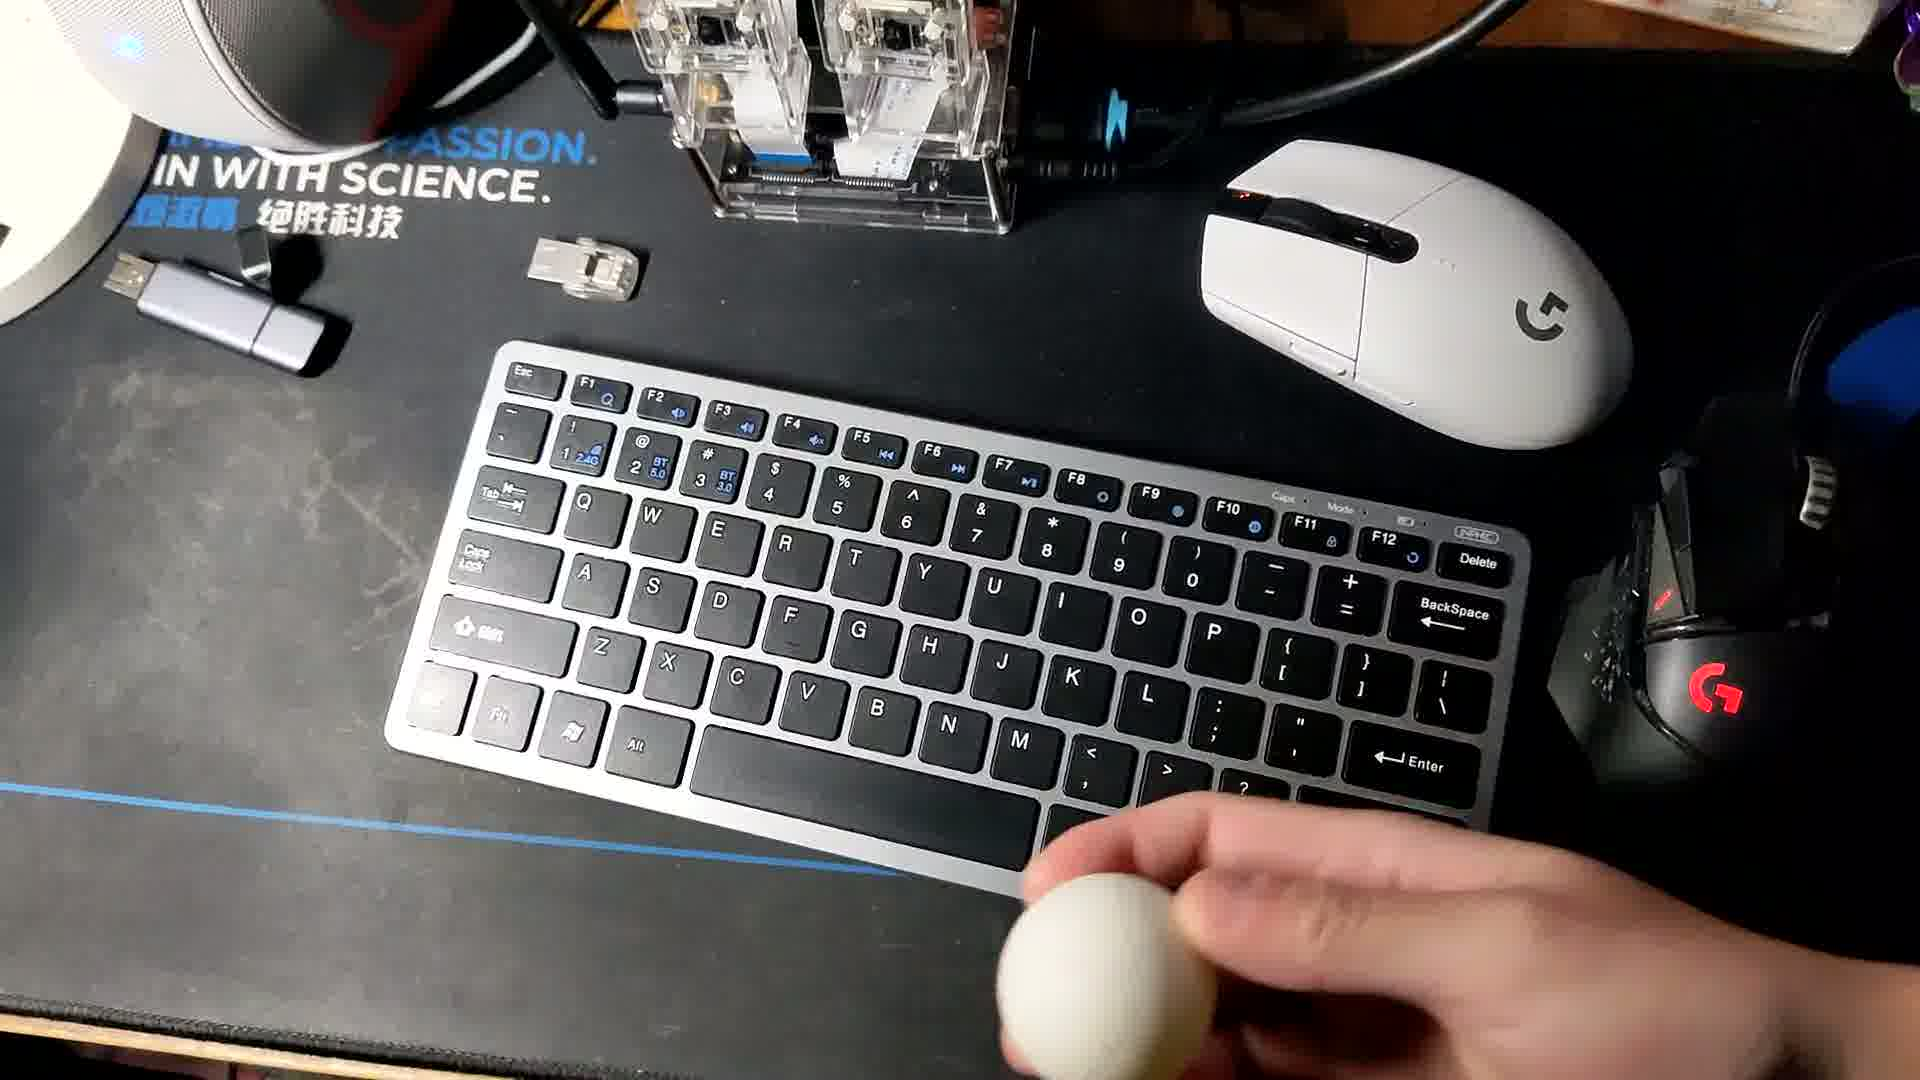Ball: (994, 874, 1226, 1080)
